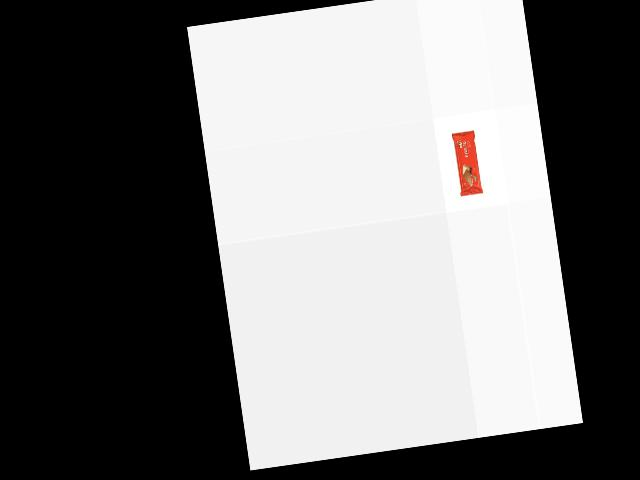chocolate: (451, 127, 483, 195)
